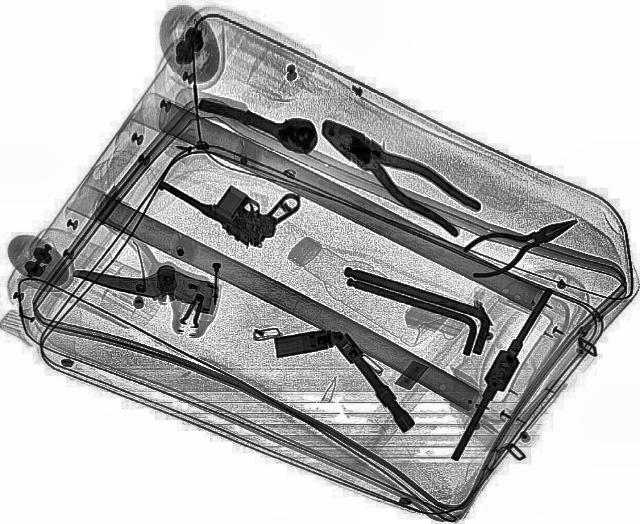Gun: (150, 138, 314, 254)
Pliers: (304, 107, 488, 239), (454, 206, 588, 280)
